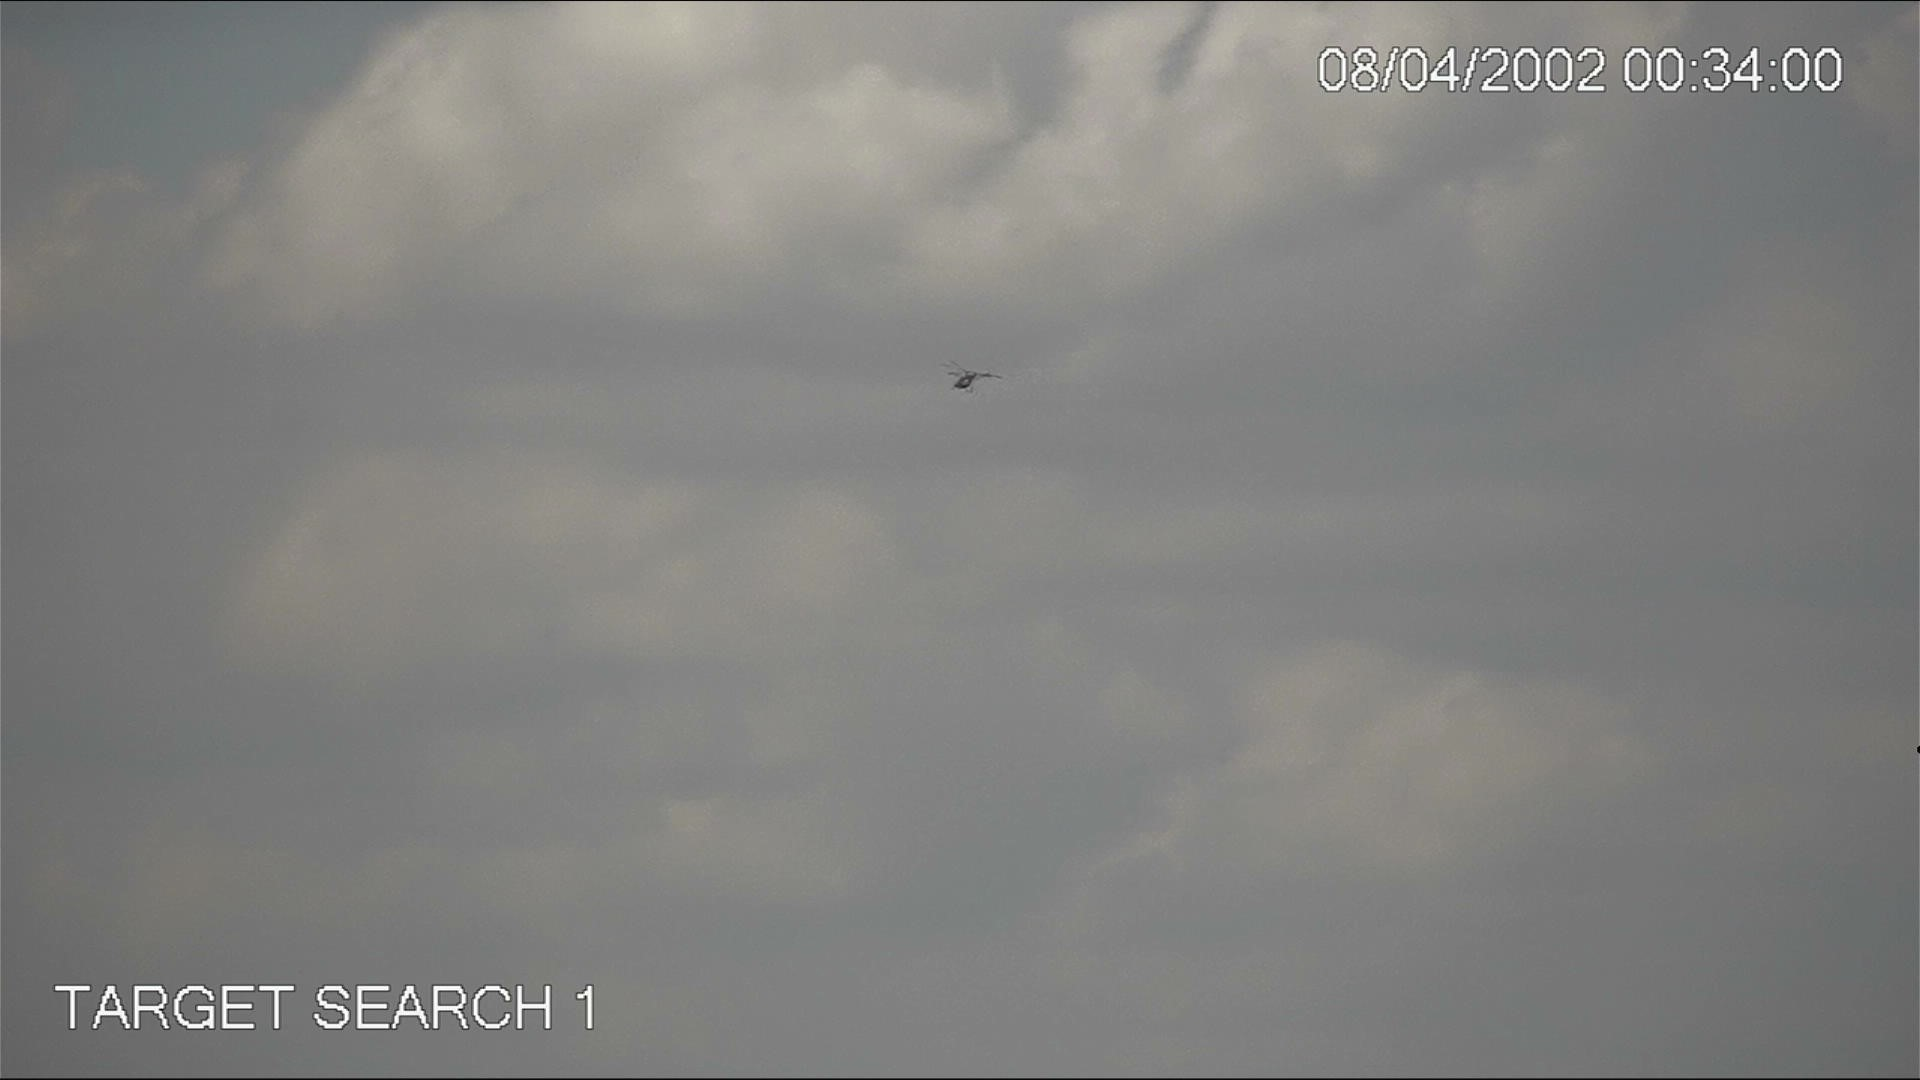SU_30: (944, 364, 1004, 398)
